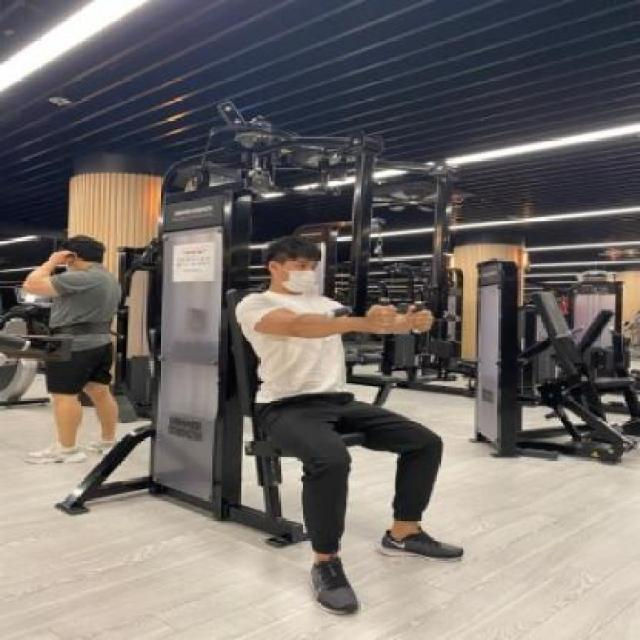chest fly machine: (49, 97, 488, 640)
